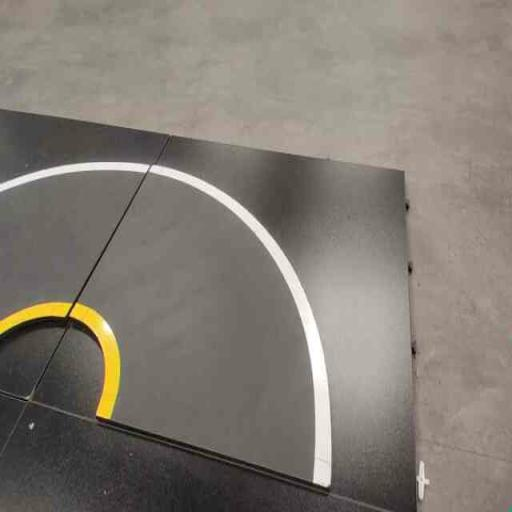left: (31, 148, 393, 505)
